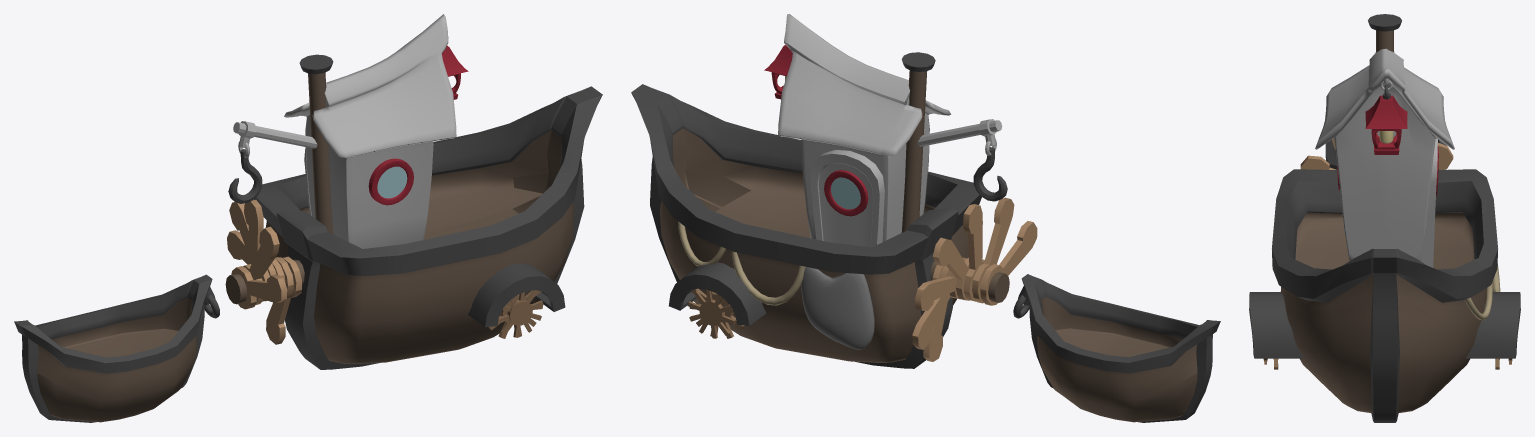
File: SM_Boat02.fbx
3 views of the same model, side by side, from view 1: azimuth 30°, elevation 25°; view 2: azimuth 150°, elevation 25°; view 3: azimuth 270°, elevation 25° (orthographic).
Parts seen in each view (by area): view 1: Boat_Main, Boat_Undercover, Boat_Storage1, Boat_FanCover1, Boat_Mast, Door_Main2, Motor_Fin7, Hook_Base1, Motor_Fin1, Boat_Fan3, Motor_Fin6, Motor_Fin5 (+5 smaller); view 2: Boat_Main, Boat_Storage1, Boat_Undercover, Door_Main1, Fishing_Net, Boat_FanCover1, Boat_Mast, Motor_Fin6, Boat_Roping, Motor_Fin7, Motor_Fin5, Hook_Base1 (+8 smaller); view 3: Boat_Main, Boat_Undercover, Boat_FanCover1, Boat_Lanturn2, Door_Main1, Boat_Mast, Boat_Roping, Motor_Fin7, Motor_Fin4, Boat_Storage1.
Part boxes in pixels (<box>): Boat_Main: <box>254,86,602,369</box>; Boat_Undercover: <box>284,14,456,248</box>; Boat_Storage1: <box>14,274,212,422</box>; Boat_FanCover1: <box>468,263,565,327</box>; Boat_Mast: <box>299,54,333,234</box>; Door_Main2: <box>368,158,413,205</box>; Motor_Fin7: <box>231,266,287,309</box>; Hook_Base1: <box>233,121,317,157</box>; Motor_Fin1: <box>266,256,301,344</box>; Boat_Fan3: <box>498,290,543,337</box>; Motor_Fin6: <box>243,226,279,304</box>; Motor_Fin5: <box>244,200,269,301</box>; Boat_Main: <box>631,84,981,368</box>; Boat_Storage1: <box>1021,274,1220,422</box>; Boat_Undercover: <box>778,14,951,241</box>; Door_Main1: <box>810,150,884,247</box>; Fishing_Net: <box>801,267,874,349</box>; Boat_FanCover1: <box>668,262,766,325</box>; Boat_Mast: <box>901,52,935,232</box>; Motor_Fin6: <box>972,197,1014,303</box>; Boat_Roping: <box>678,221,805,305</box>; Motor_Fin7: <box>980,221,1037,305</box>; Motor_Fin5: <box>963,204,984,301</box>; Hook_Base1: <box>917,119,1002,156</box>; Boat_Main: <box>1272,169,1497,422</box>; Boat_Undercover: <box>1315,48,1454,260</box>; Boat_FanCover1: <box>1249,292,1520,358</box>; Boat_Lanturn2: <box>1365,84,1407,154</box>; Door_Main1: <box>1421,138,1438,267</box>; Boat_Mast: <box>1368,14,1401,52</box>; Boat_Roping: <box>1465,264,1500,320</box>; Motor_Fin7: <box>1300,155,1336,169</box>; Motor_Fin4: <box>1437,143,1453,169</box>; Boat_Storage1: <box>1325,139,1446,169</box>.
Size of the model in its own units: 33.66 by 18.15 by 13.47.
